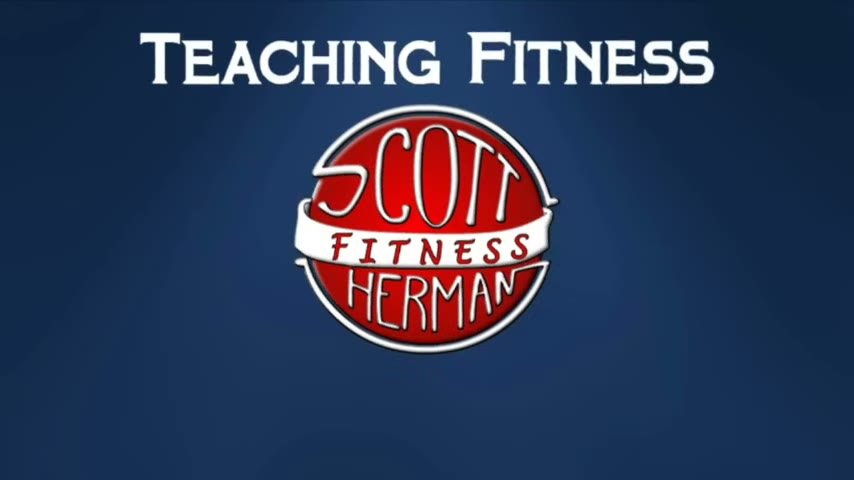barbell_plate_side: (473, 93, 567, 368), (289, 96, 371, 357)
